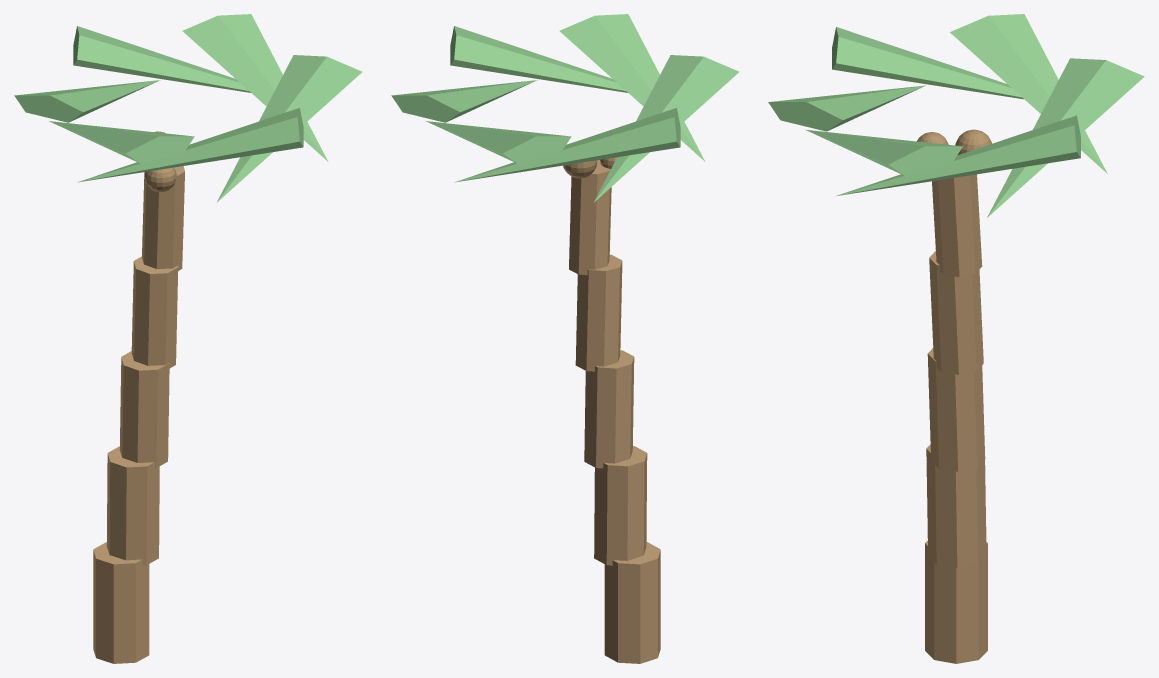
File: palm.glb
3 renders of one model, left to right at view 1: azimuth 30°, elevation 25°; view 2: azimuth 150°, elevation 25°; view 3: azimuth 270°, elevation 25°, orthographic. The views are drawn at different scales.
Visible parts, largest first — view 1: Trunk0, Trunk1, Frond0, Trunk2, Frond5, Frond4, Trunk3, Frond1, Trunk4, Frond2, Frond3, Coco2; view 2: Trunk0, Trunk1, Frond4, Trunk2, Frond3, Trunk3, Frond2, Frond5, Trunk4, Frond0, Frond1; view 3: Trunk0, Trunk1, Frond2, Trunk2, Frond1, Frond0, Frond3, Trunk3, Trunk4, Frond4, Frond5, Coco1.
Boxes of the visible parts, x1,y1,x2,y2 form: Trunk0: [93, 542, 149, 663]; Trunk1: [106, 446, 159, 565]; Frond0: [182, 14, 328, 161]; Trunk2: [119, 351, 169, 468]; Frond5: [217, 55, 362, 202]; Frond4: [78, 108, 303, 182]; Trunk3: [131, 256, 178, 368]; Frond1: [73, 26, 250, 92]; Trunk4: [142, 166, 184, 270]; Frond2: [14, 80, 160, 122]; Frond3: [49, 121, 194, 163]; Coco2: [144, 167, 176, 191]; Trunk0: [604, 542, 660, 663]; Trunk1: [594, 446, 647, 565]; Frond4: [559, 14, 705, 161]; Trunk2: [584, 350, 634, 468]; Frond3: [594, 55, 739, 202]; Trunk3: [575, 254, 622, 371]; Frond2: [455, 108, 680, 182]; Frond5: [450, 26, 627, 92]; Trunk4: [569, 160, 611, 275]; Frond0: [391, 80, 537, 122]; Frond1: [426, 121, 571, 163]; Trunk0: [925, 540, 987, 663]; Trunk1: [926, 444, 986, 567]; Frond2: [950, 14, 1107, 173]; Trunk2: [927, 348, 985, 471]; Frond1: [987, 58, 1144, 217]; Frond0: [835, 115, 1080, 196]; Frond3: [832, 27, 1023, 99]; Trunk3: [929, 251, 983, 374]; Trunk4: [932, 174, 982, 276]; Frond4: [768, 85, 925, 131]; Frond5: [805, 129, 962, 175]; Coco1: [955, 129, 991, 155].
Bounding box in the file's own units: 1.02 × 1.91 × 1.08.
